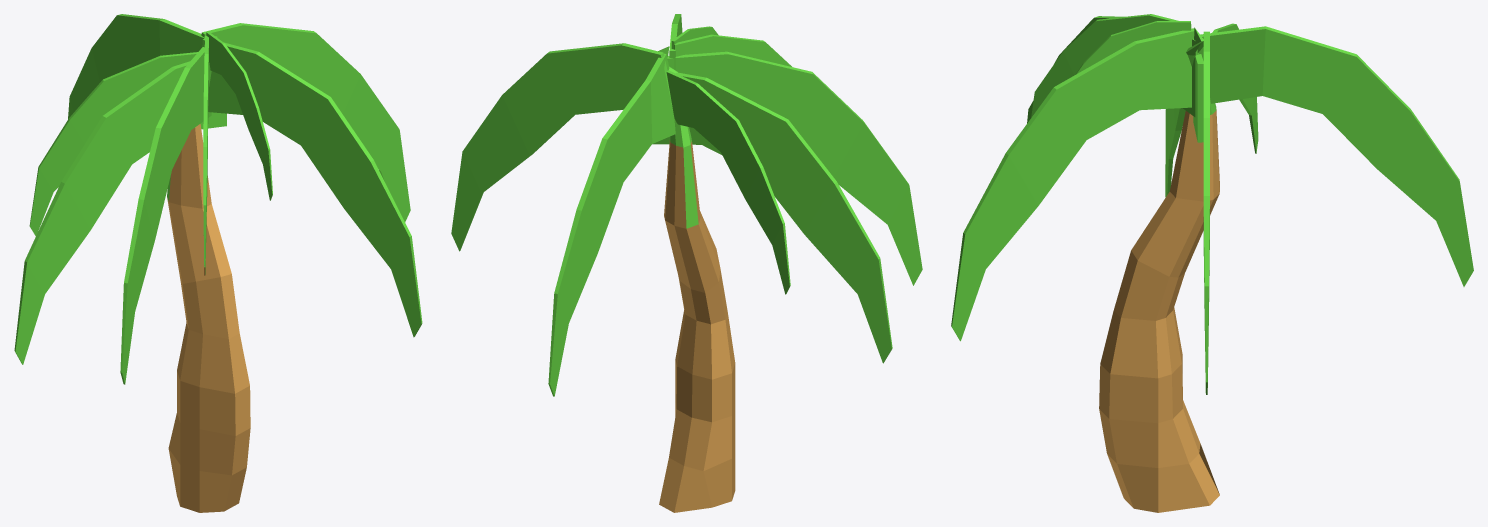
Rendered from tree.fbx.
3 renders of one model, left to right at view 1: azimuth 30°, elevation 25°; view 2: azimuth 150°, elevation 25°; view 3: azimuth 270°, elevation 25°, orthographic. The views are drawn at different scales.
Visible parts, largest first — view 1: Cylinder; view 2: Cylinder; view 3: Cylinder.
Part boxes in pixels (x1,y1,x2,y2): Cylinder: (14, 14, 422, 512); Cylinder: (451, 14, 922, 512); Cylinder: (951, 14, 1473, 512).
Size of the model in its own units: 1488 by 1555 by 1520.
